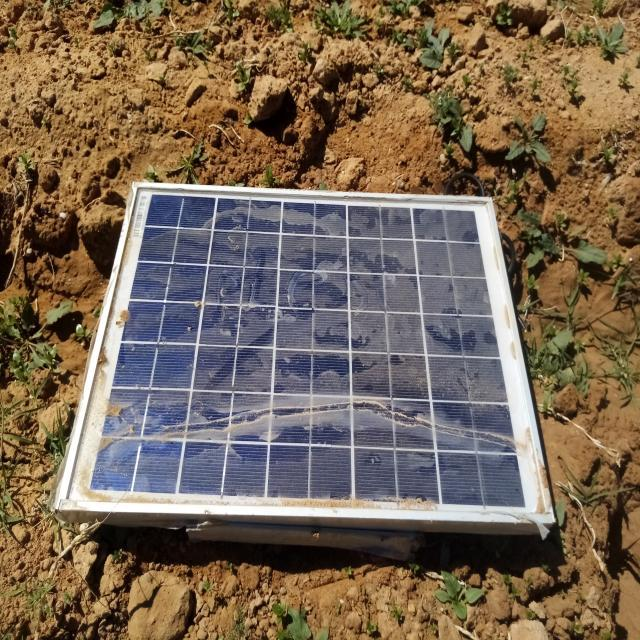faulty: (61, 185, 549, 515)
